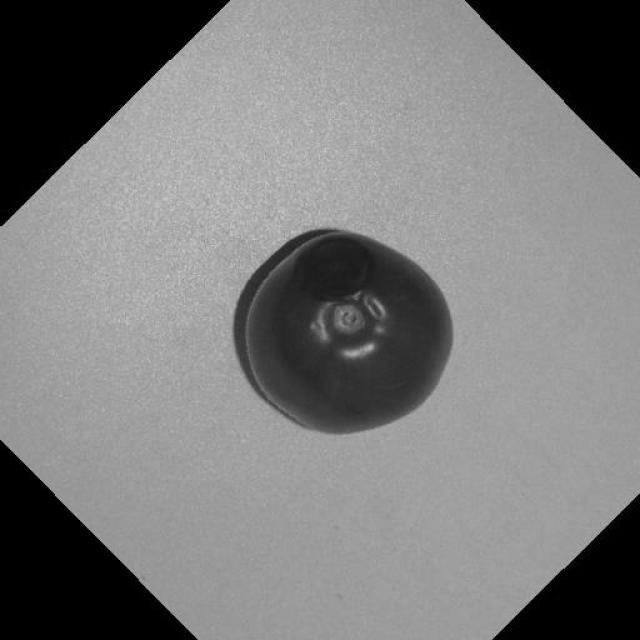Stale_tomato: (262, 200, 472, 446)
